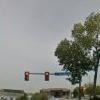Tree: (56, 9, 99, 77)
